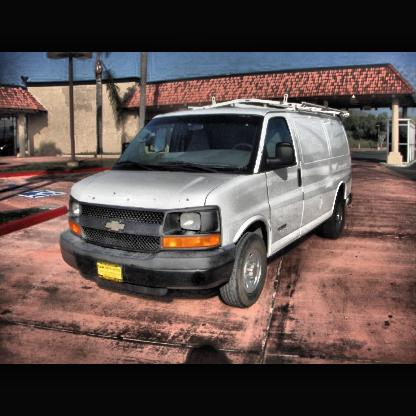Chevrolet Express Van 2007: (59, 96, 355, 311)
